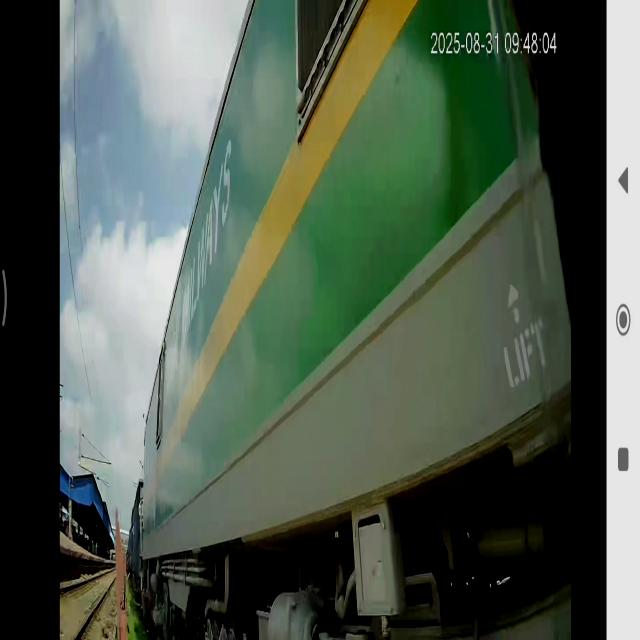engine: (144, 0, 566, 640)
